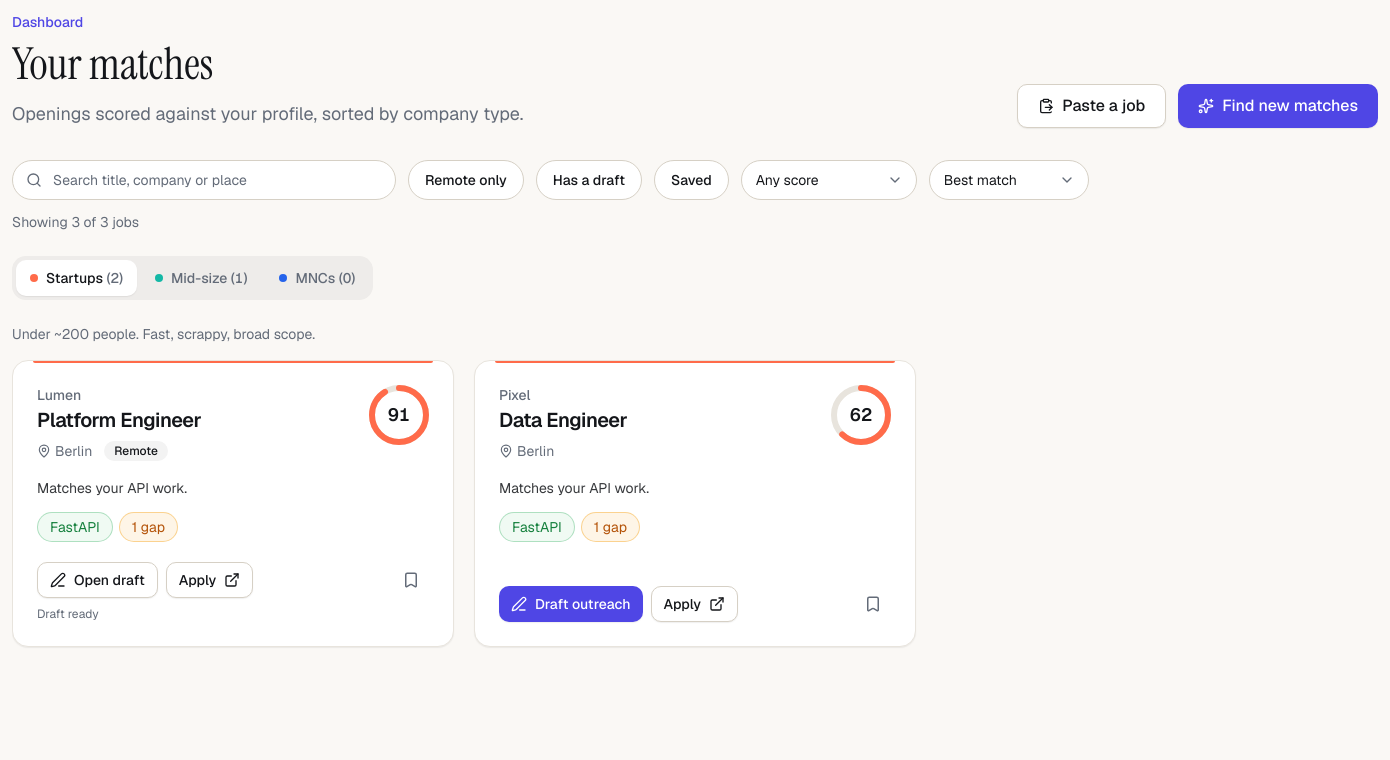
Test: Dashboard › starts a search run
Check: the link "Platform Engineer" is shown, box [37, 407, 201, 433]
Click the button "Find new matches".
click(1278, 106)  # box [1178, 84, 1378, 128]
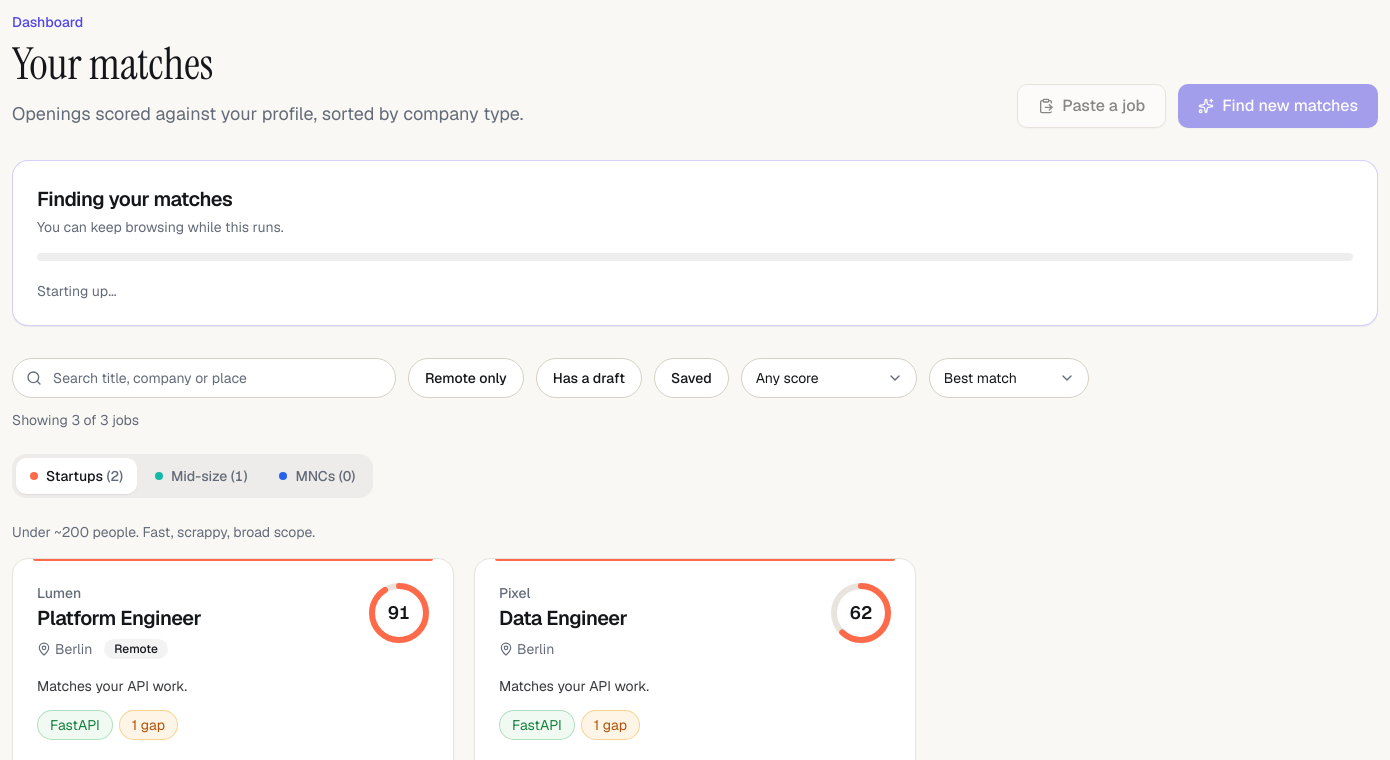
Check: the heading "Finding your matches" is shown, box [37, 186, 232, 212]
